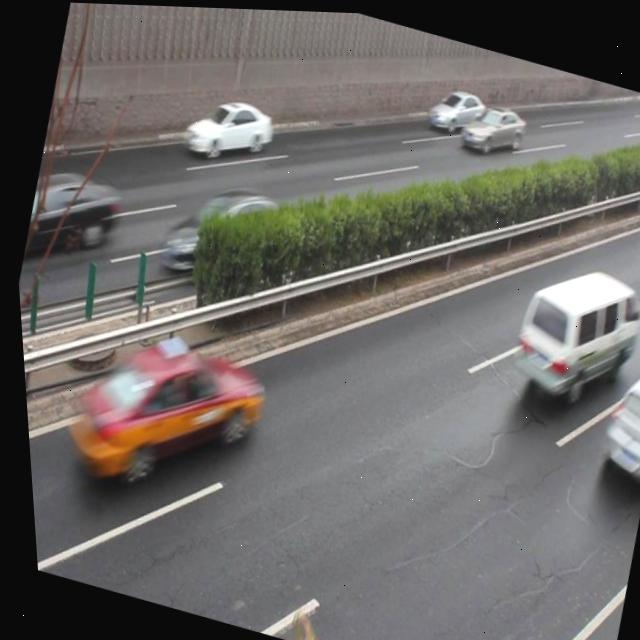car: (54, 316, 267, 509), (149, 167, 294, 297), (18, 157, 123, 265), (176, 86, 278, 173), (583, 352, 640, 485), (454, 91, 527, 159), (422, 78, 489, 138)
truck: (494, 247, 640, 412)
